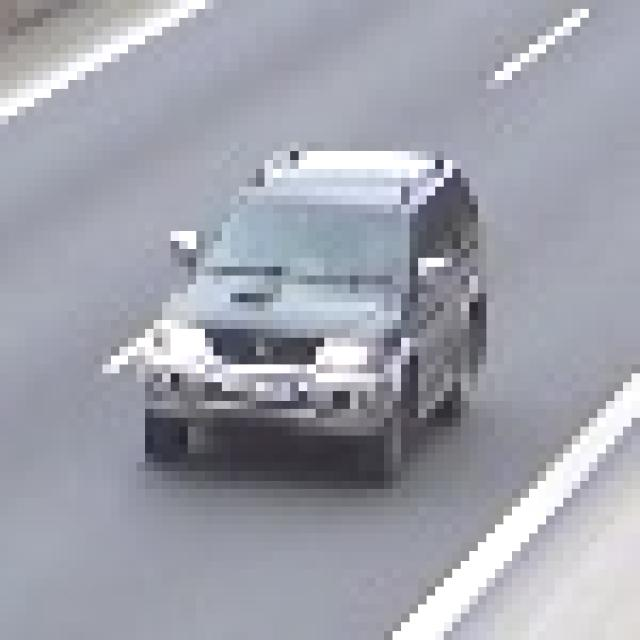SUV: (160, 156, 473, 463)
